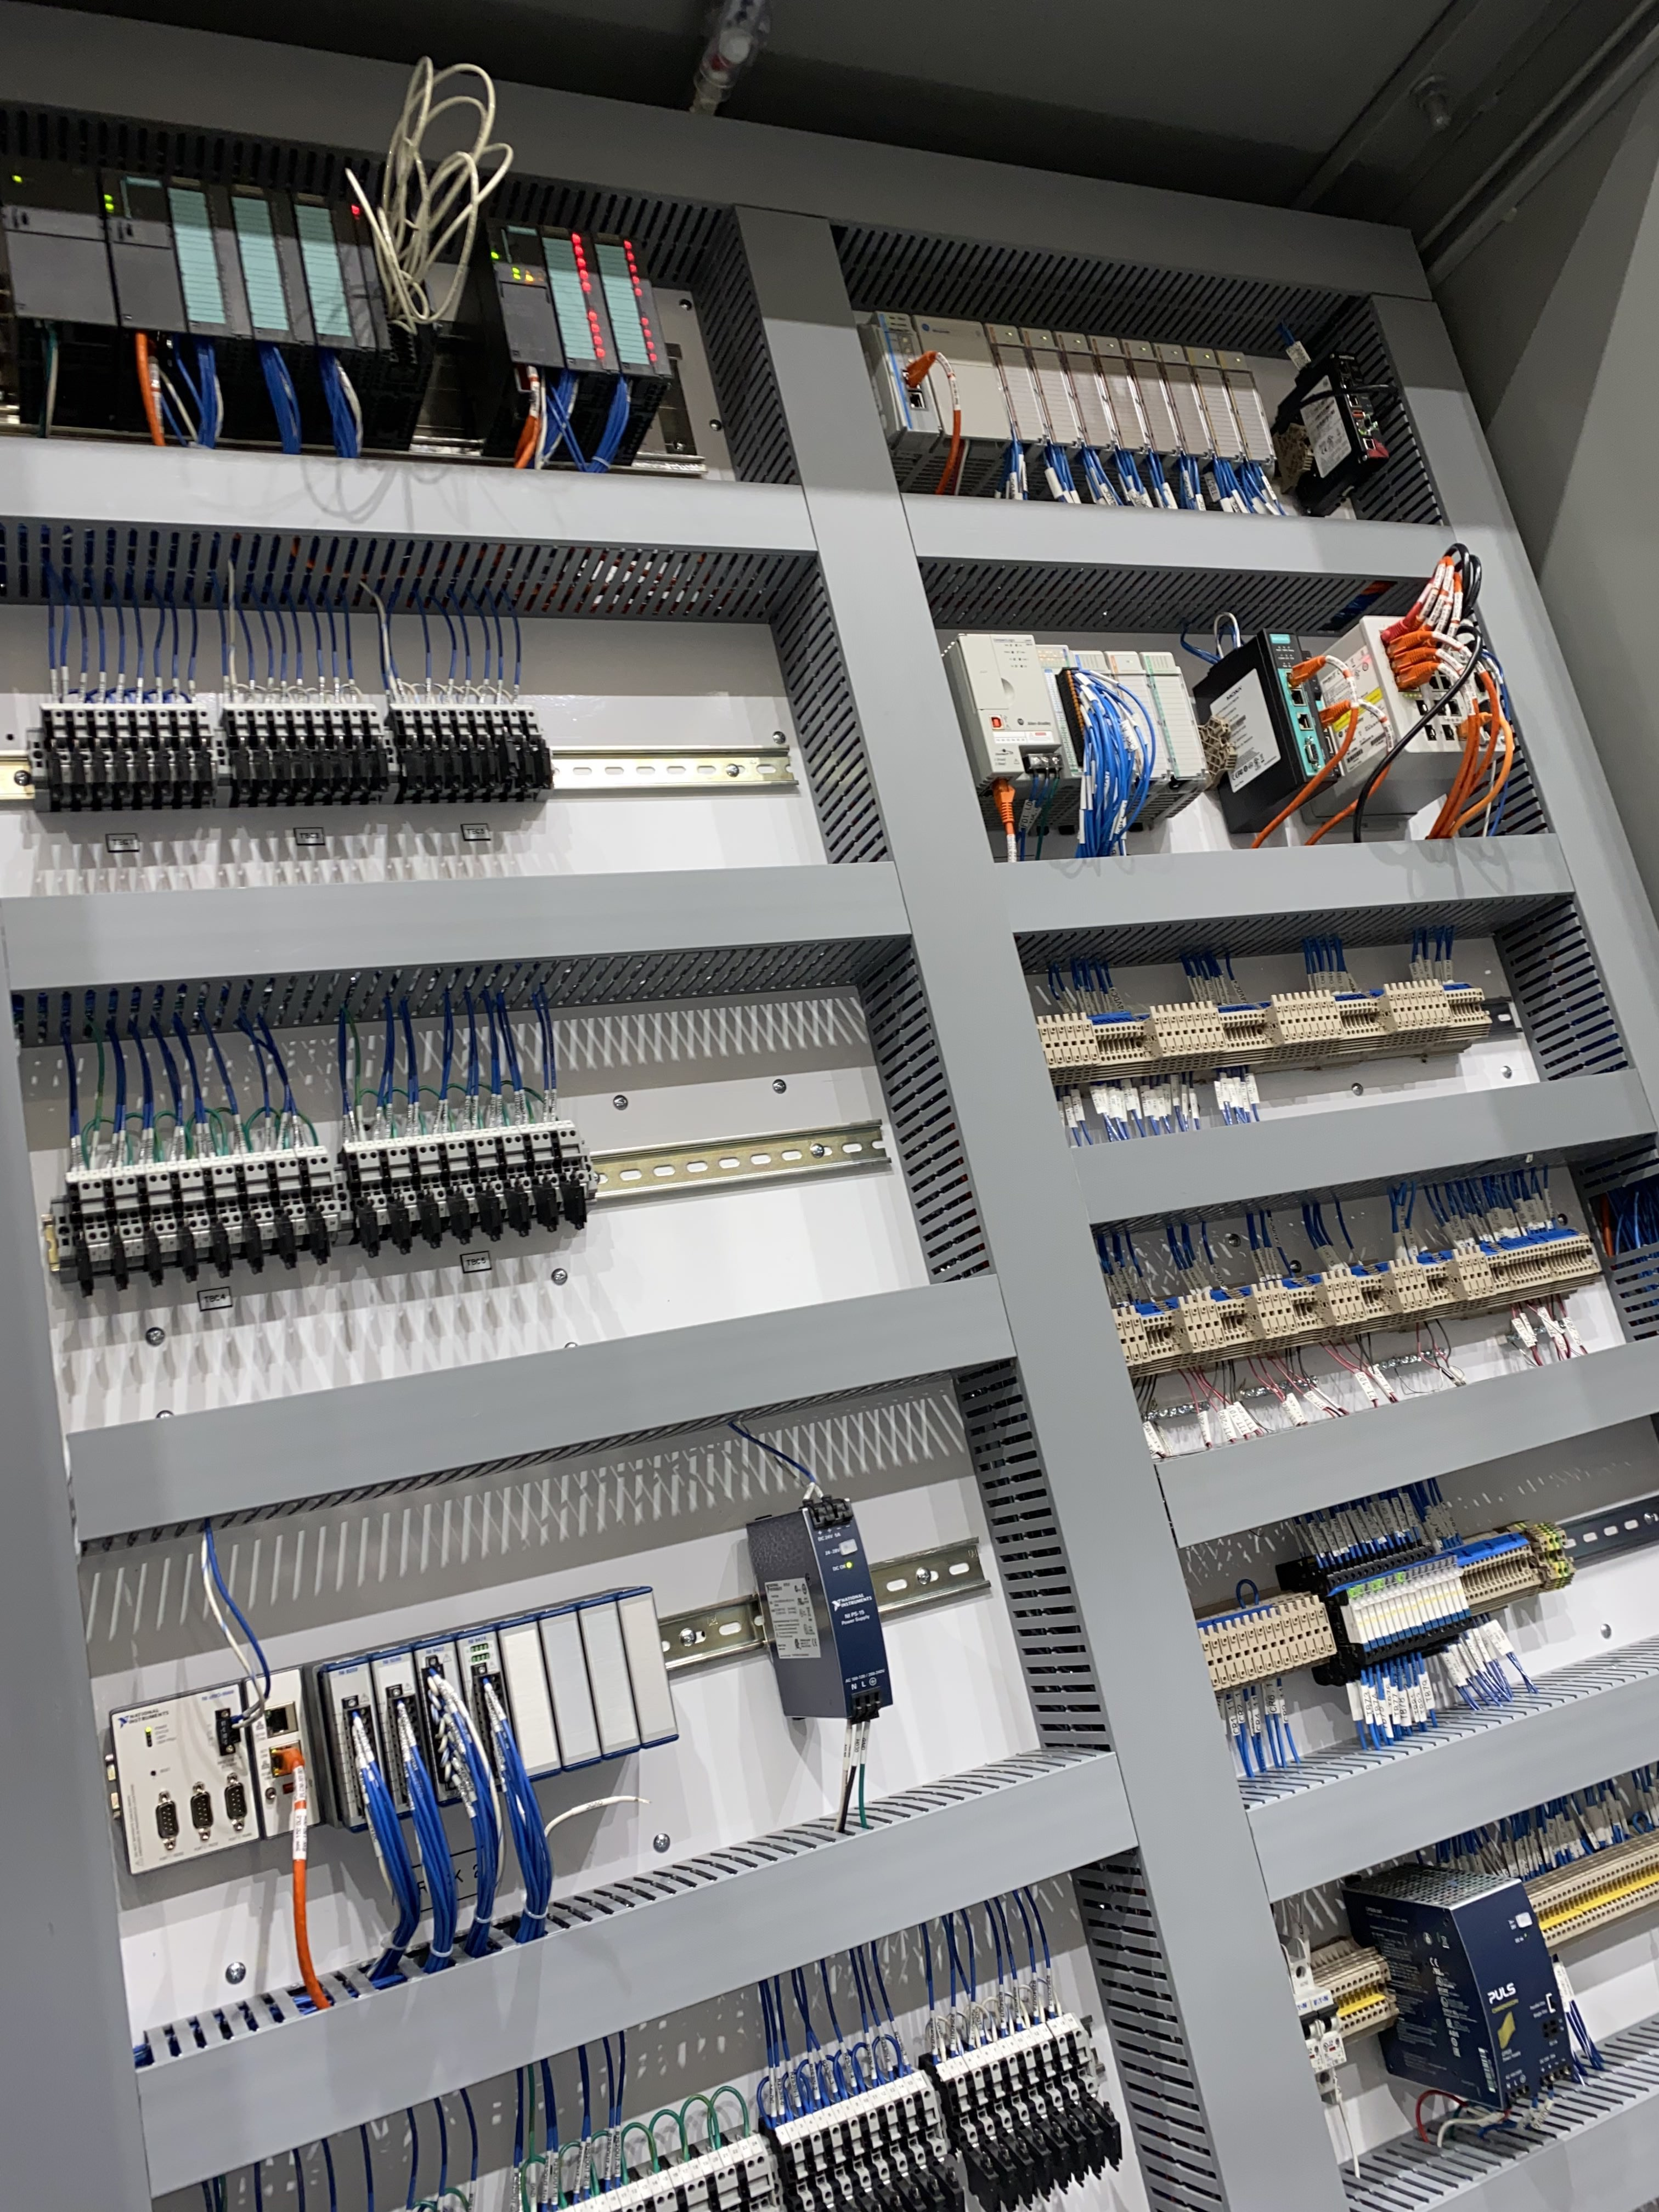AllenBradley: (953, 625, 1065, 787)
Siemens: (91, 150, 192, 343)
